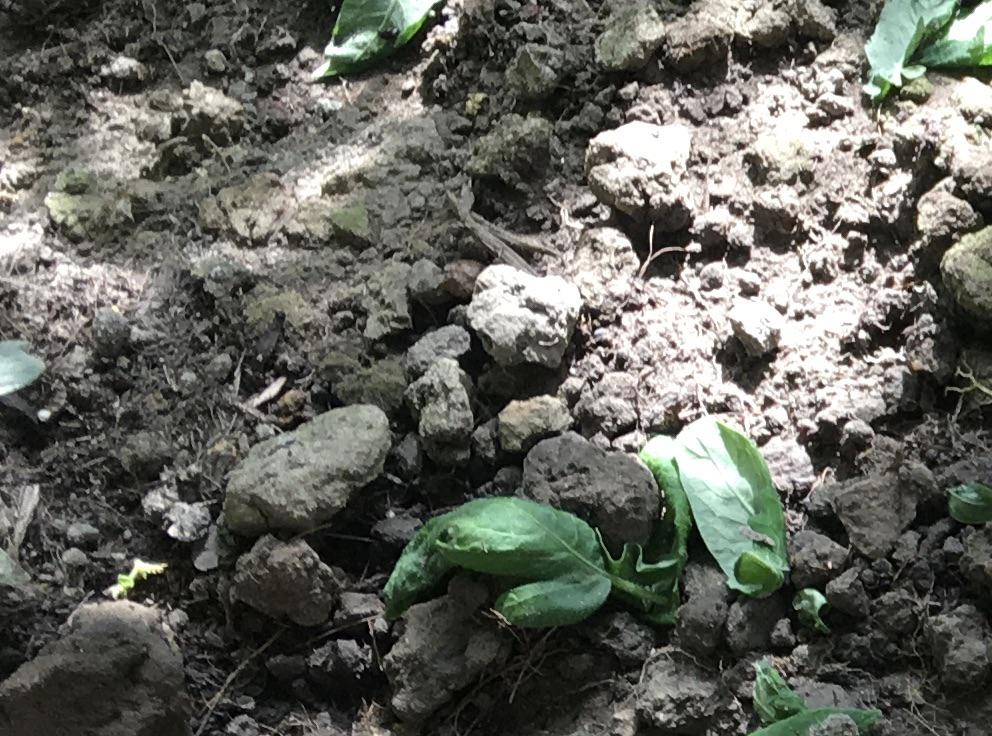block: (1, 605, 190, 734), (221, 403, 393, 542), (520, 433, 660, 553), (580, 117, 702, 233), (464, 263, 580, 374)
